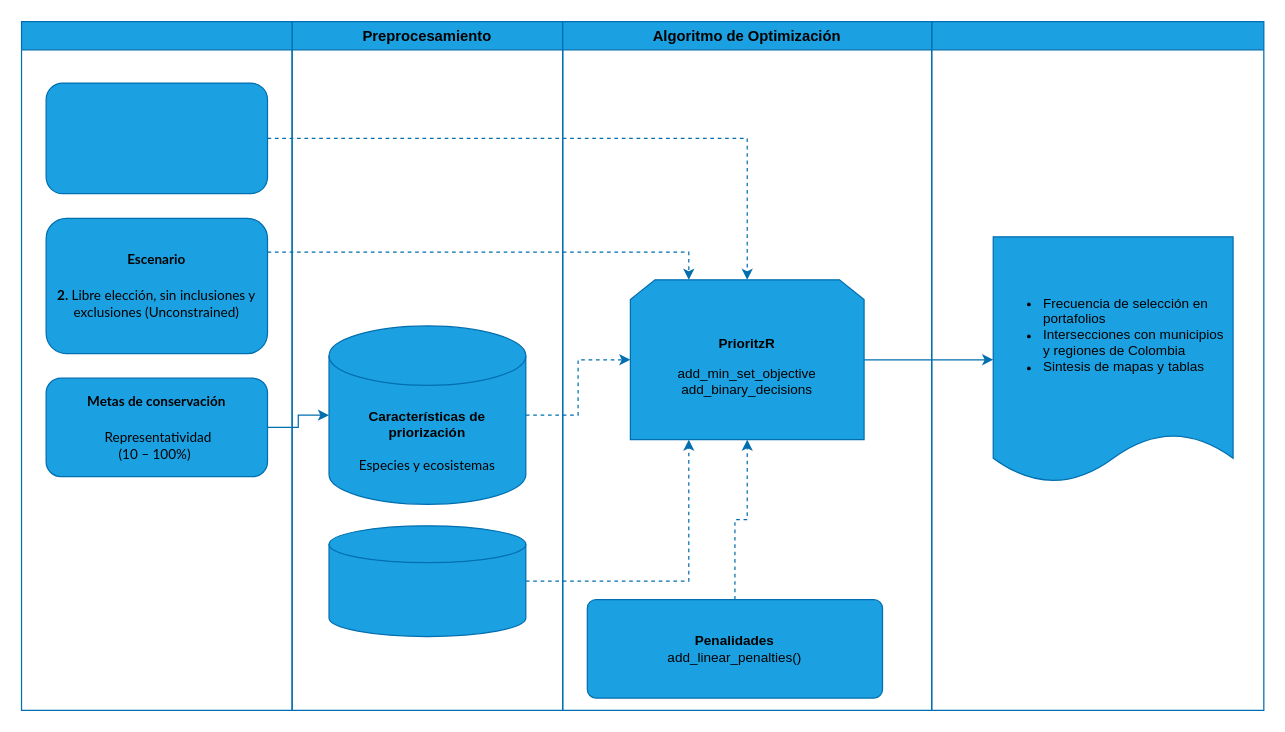
This 1285x732 diagram has some shape labels left out. The shapes that lost their labels are listed below. From the top down, each one's box as (x1, y1, x2, y2) in pixels, then its label:
(45, 82, 268, 194): Unidades de planeación Microcuencas HydroBASINS
(20, 20, 292, 710): Conceptualización
(930, 20, 1264, 710): Posprocesamiento
(328, 525, 526, 637): Costos 2 . índice de conectividad
